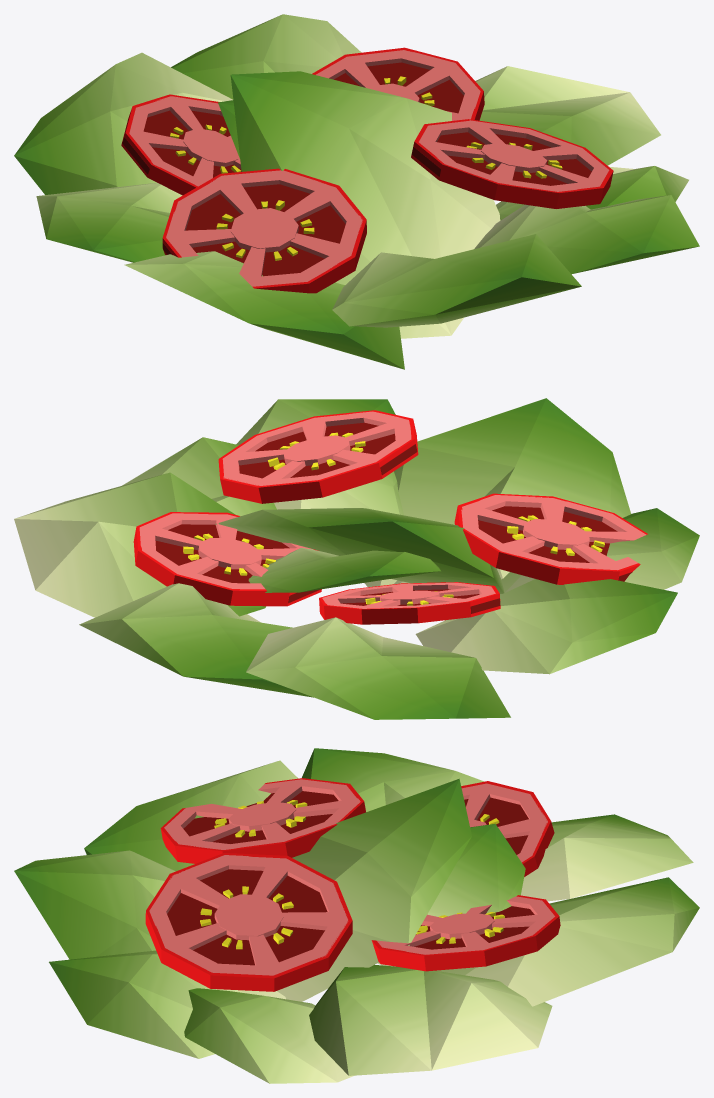
Rendered from Tomatosalad_withoutplate.fbx.
3 renders of one model, top to bottom at view 1: azimuth 30°, elevation 25°; view 2: azimuth 150°, elevation 25°; view 3: azimuth 270°, elevation 25°, orthographic.
Parts seen in each view (by area): view 1: TomatoSalad; view 2: TomatoSalad; view 3: TomatoSalad.
Part boxes in pixels (box(x1,y1,x2,y2)): TomatoSalad: box(14, 14, 699, 369); TomatoSalad: box(14, 398, 699, 719); TomatoSalad: box(14, 748, 699, 1083).
Bounding box in the file's own units: 21.57 × 20.95 × 7.7.
Materials: 1 (1 with a texture image).
